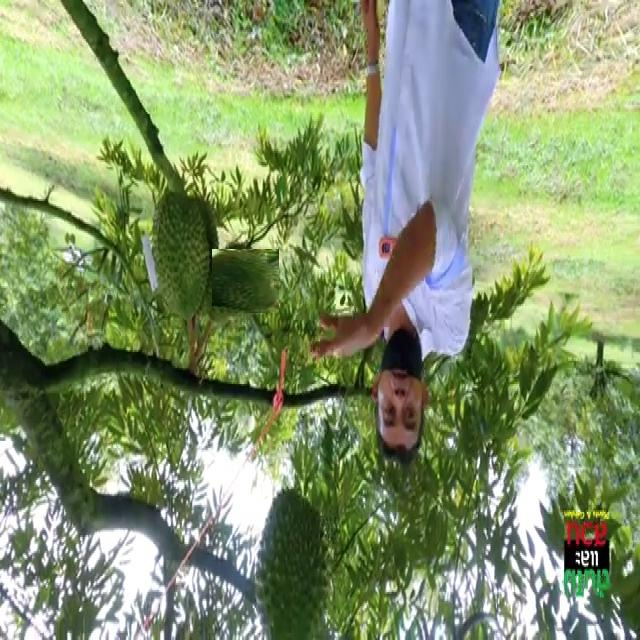durian: (252, 487, 330, 640), (148, 188, 212, 324), (198, 244, 273, 319)
